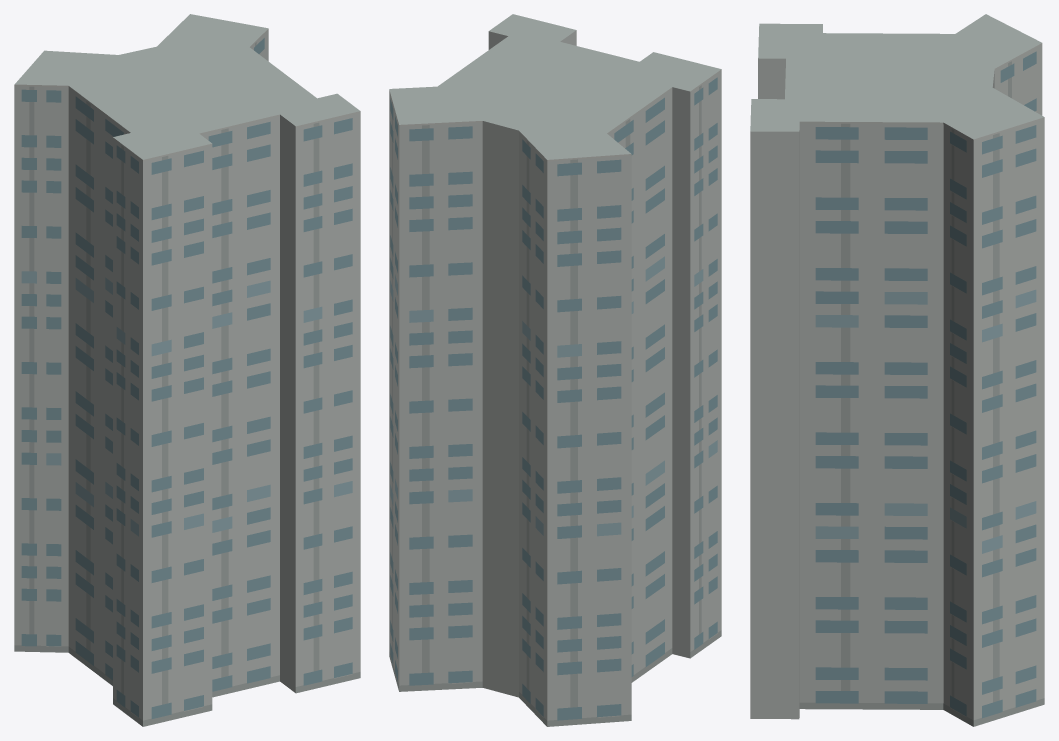
The model's file is residential-6dcbefe6-6d5d-49d1-a1b6-b677e94a7be9.glb.
3 renders of one model, left to right at view 1: azimuth 30°, elevation 25°; view 2: azimuth 150°, elevation 25°; view 3: azimuth 270°, elevation 25°, orthographic. The views are drawn at different scales.
Visible parts, largest first — view 1: residential-6dcbefe6-6d5d-49d1-a1b6-b677e94a7be9.tmp; view 2: residential-6dcbefe6-6d5d-49d1-a1b6-b677e94a7be9.tmp; view 3: residential-6dcbefe6-6d5d-49d1-a1b6-b677e94a7be9.tmp.
Boxes of the visible parts, box(x1,y1,x2,y2) form: residential-6dcbefe6-6d5d-49d1-a1b6-b677e94a7be9.tmp: box(14, 14, 360, 726); residential-6dcbefe6-6d5d-49d1-a1b6-b677e94a7be9.tmp: box(389, 14, 721, 726); residential-6dcbefe6-6d5d-49d1-a1b6-b677e94a7be9.tmp: box(750, 14, 1044, 726).
Size of the model in its own units: 38.51 by 84 by 38.16.
